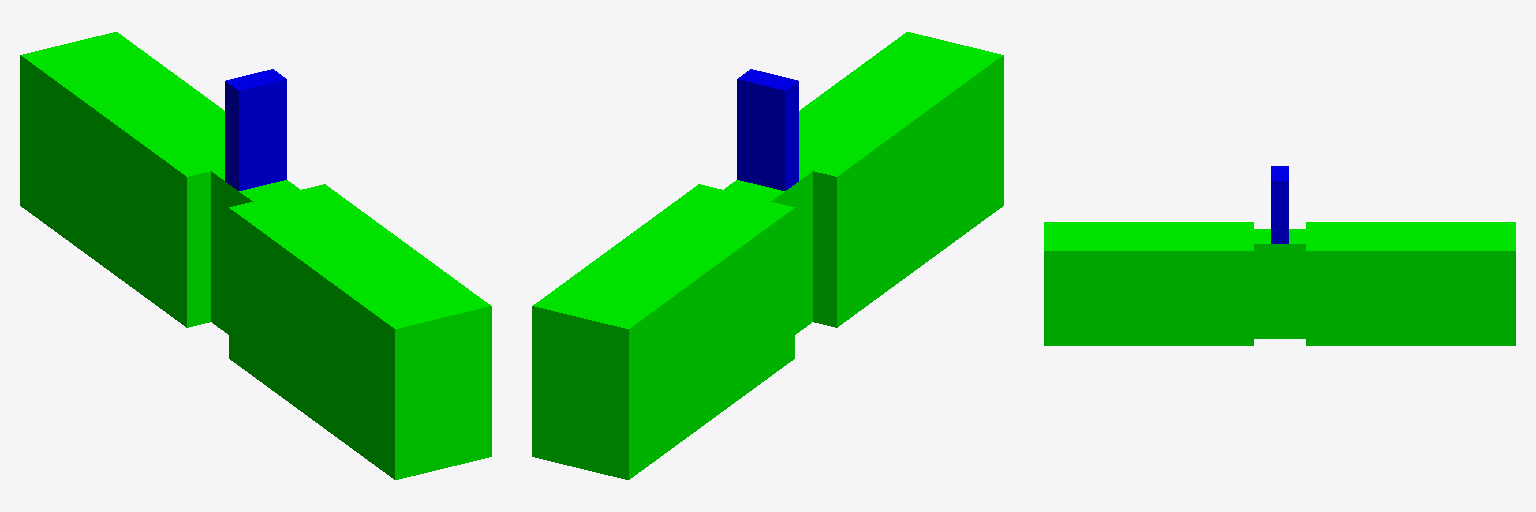
The robot description file, URDF, robot "robot":
<robot name = "robot">
    <link name="root">
        <inertial>
            <origin xyz="0.0 0.0 1.5" rpy="0 0 0"/>
            <mass value="1" />
            <inertia ixx="100" ixy="0" ixz="0" iyy="100" iyz="0" izz="100" />
        </inertial>
        <visual>
            <origin xyz="0.0 0.0 1.5" rpy="0 0 0"/>
            <geometry>
                <box size="0 0 0.0001" />
            </geometry>
            <material name="Green">
                <color rgba="0 1.0 0.0 1.0"/>
            </material>
        </visual>
        <collision>
            <origin xyz="0.0 0.0 1.5" rpy="0 0 0"/>
            <geometry>
                <box size="0 0 0.0001" />
            </geometry>
        </collision>
    </link>
    <joint name="root_000" type="revolute">
       <parent link="root"/>
       <child  link="000"/>
       <origin rpy="0 0 0" xyz="0.0 0.0 1.5" />
     <axis xyz="1 0 0"/>
       <limit effort="0.0" lower="-3.14159" upper="3.14159" velocity="0.0"/>
    </joint>
    <link name="000">
        <inertial>
            <origin xyz="0.0 0.05 0.0" rpy="0 0 0"/>
            <mass value="1" />
            <inertia ixx="100" ixy="0" ixz="0" iyy="100" iyz="0" izz="100" />
        </inertial>
        <visual>
            <origin xyz="0.0 0.05 0.0" rpy="0 0 0"/>
            <geometry>
                <box size="0.2 0.1 0.4" />
            </geometry>
            <material name="Blue">
                <color rgba="0 0.0 1.0 1.0"/>
            </material>
        </visual>
        <collision>
            <origin xyz="0.0 0.05 0.0" rpy="0 0 0"/>
            <geometry>
                <box size="0.2 0.1 0.4" />
            </geometry>
        </collision>
    </link>
    <joint name="000_000-100" type="revolute">
       <parent link="000"/>
       <child  link="000-100"/>
       <origin rpy="0 0 0" xyz="0.0 0.05 -0.2" />
     <axis xyz="0 0 1"/>
       <limit effort="0.0" lower="-3.14159" upper="3.14159" velocity="0.0"/>
    </joint>
    <link name="000-100">
        <inertial>
            <origin xyz="0.0 0.0 -0.3" rpy="0 0 0"/>
            <mass value="1" />
            <inertia ixx="100" ixy="0" ixz="0" iyy="100" iyz="0" izz="100" />
        </inertial>
        <visual>
            <origin xyz="0.0 0.0 -0.3" rpy="0 0 0"/>
            <geometry>
                <box size="0.2 0.3 0.6" />
            </geometry>
            <material name="Green">
                <color rgba="0 1.0 0.0 1.0"/>
            </material>
        </visual>
        <collision>
            <origin xyz="0.0 0.0 -0.3" rpy="0 0 0"/>
            <geometry>
                <box size="0.2 0.3 0.6" />
            </geometry>
        </collision>
    </link>
    <joint name="000-100_000-100-200" type="revolute">
       <parent link="000-100"/>
       <child  link="000-100-200"/>
       <origin rpy="0 0 0" xyz="0.0 0.15 -0.3" />
     <axis xyz="0 1 0"/>
       <limit effort="0.0" lower="-3.14159" upper="3.14159" velocity="0.0"/>
    </joint>
    <link name="000-100-200">
        <inertial>
            <origin xyz="0.0 0.3 -0.0" rpy="0 0 0"/>
            <mass value="1" />
            <inertia ixx="100" ixy="0" ixz="0" iyy="100" iyz="0" izz="100" />
        </inertial>
        <visual>
            <origin xyz="0.0 0.3 -0.0" rpy="0 0 0"/>
            <geometry>
                <box size="0.4 0.6 0.6" />
            </geometry>
            <material name="Green">
                <color rgba="0 1.0 0.0 1.0"/>
            </material>
        </visual>
        <collision>
            <origin xyz="0.0 0.3 -0.0" rpy="0 0 0"/>
            <geometry>
                <box size="0.4 0.6 0.6" />
            </geometry>
        </collision>
    </link>
    <joint name="000-100-200_000-100-210" type="revolute">
       <parent link="000-100-200"/>
       <child  link="000-100-210"/>
       <origin rpy="0 0 0" xyz="0.0 0.6 -0.0" />
     <axis xyz="0 1 0"/>
       <limit effort="0.0" lower="-3.14159" upper="3.14159" velocity="0.0"/>
    </joint>
    <link name="000-100-210">
        <inertial>
            <origin xyz="0.0 0.3 -0.0" rpy="0 0 0"/>
            <mass value="1" />
            <inertia ixx="100" ixy="0" ixz="0" iyy="100" iyz="0" izz="100" />
        </inertial>
        <visual>
            <origin xyz="0.0 0.3 -0.0" rpy="0 0 0"/>
            <geometry>
                <box size="0.4 0.6 0.6" />
            </geometry>
            <material name="Green">
                <color rgba="0 1.0 0.0 1.0"/>
            </material>
        </visual>
        <collision>
            <origin xyz="0.0 0.3 -0.0" rpy="0 0 0"/>
            <geometry>
                <box size="0.4 0.6 0.6" />
            </geometry>
        </collision>
    </link>
    <joint name="000-100_000-100-201" type="revolute">
       <parent link="000-100"/>
       <child  link="000-100-201"/>
       <origin rpy="0 0 0" xyz="0.0 -0.15 -0.3" />
     <axis xyz="0 1 0"/>
       <limit effort="0.0" lower="-3.14159" upper="3.14159" velocity="0.0"/>
    </joint>
    <link name="000-100-201">
        <inertial>
            <origin xyz="0.0 -0.3 -0.0" rpy="0 0 0"/>
            <mass value="1" />
            <inertia ixx="100" ixy="0" ixz="0" iyy="100" iyz="0" izz="100" />
        </inertial>
        <visual>
            <origin xyz="0.0 -0.3 -0.0" rpy="0 0 0"/>
            <geometry>
                <box size="0.4 0.6 0.6" />
            </geometry>
            <material name="Green">
                <color rgba="0 1.0 0.0 1.0"/>
            </material>
        </visual>
        <collision>
            <origin xyz="0.0 -0.3 -0.0" rpy="0 0 0"/>
            <geometry>
                <box size="0.4 0.6 0.6" />
            </geometry>
        </collision>
    </link>
    <joint name="000-100-201_000-100-211" type="revolute">
       <parent link="000-100-201"/>
       <child  link="000-100-211"/>
       <origin rpy="0 0 0" xyz="0.0 -0.6 -0.0" />
     <axis xyz="0 1 0"/>
       <limit effort="0.0" lower="-3.14159" upper="3.14159" velocity="0.0"/>
    </joint>
    <link name="000-100-211">
        <inertial>
            <origin xyz="0.0 -0.3 -0.0" rpy="0 0 0"/>
            <mass value="1" />
            <inertia ixx="100" ixy="0" ixz="0" iyy="100" iyz="0" izz="100" />
        </inertial>
        <visual>
            <origin xyz="0.0 -0.3 -0.0" rpy="0 0 0"/>
            <geometry>
                <box size="0.4 0.6 0.6" />
            </geometry>
            <material name="Green">
                <color rgba="0 1.0 0.0 1.0"/>
            </material>
        </visual>
        <collision>
            <origin xyz="0.0 -0.3 -0.0" rpy="0 0 0"/>
            <geometry>
                <box size="0.4 0.6 0.6" />
            </geometry>
        </collision>
    </link>
</robot>

--- Facts derived from the render (not from the file) ---
The picture shows the robot from 3 angles, left to right: view 1: azimuth 30°, elevation 25°; view 2: azimuth 150°, elevation 25°; view 3: azimuth 270°, elevation 25°; orthographic projection.
Robot: robot — 7 links, 6 joints (6 revolute); root link root; default pose: all joints at 0.
Links seen in each view (by area): view 1: [phone redacted] (×4), 000, 000-100; view 2: [phone redacted] (×4), 000, 000-100; view 3: [phone redacted] (×4), 000-100, 000.
Boxes of the visible links, x1,y1,x2,y2 form: [phone redacted] (×4): (20,32,491,479); 000: (225,69,286,190); 000-100: (211,168,299,334); [phone redacted] (×4): (532,32,1003,479); 000: (737,69,798,190); 000-100: (724,168,812,334); [phone redacted] (×4): (1044,222,1515,345); 000-100: (1254,229,1305,338); 000: (1271,166,1288,243).
Size in the robot's own frame: 0.4 by 2.7 by 1 metres.
Geometry: primitives only (box / cylinder / sphere), no mesh files.
